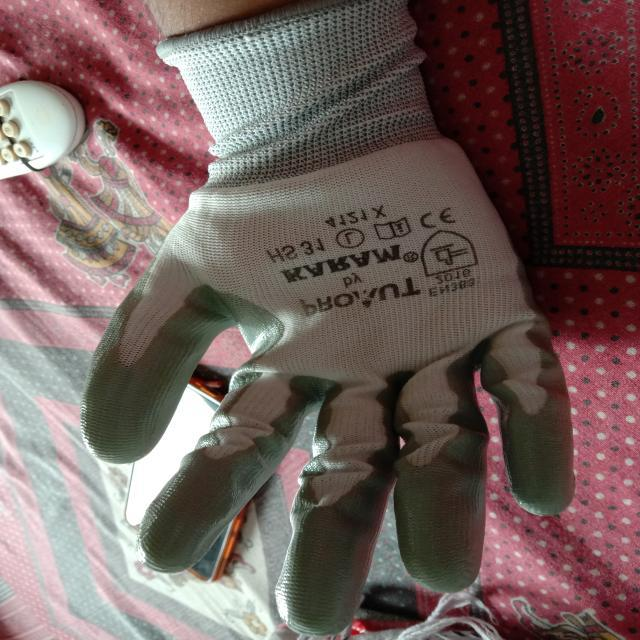gloved_hand: (70, 2, 582, 640)
